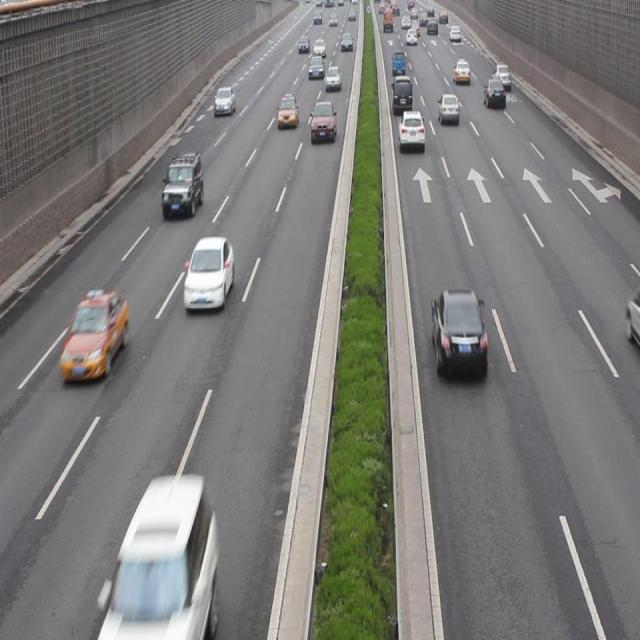car: (101, 481, 215, 632), (61, 290, 126, 382), (430, 287, 487, 379), (184, 236, 233, 314), (162, 152, 203, 218), (396, 108, 424, 149), (308, 101, 336, 142)
